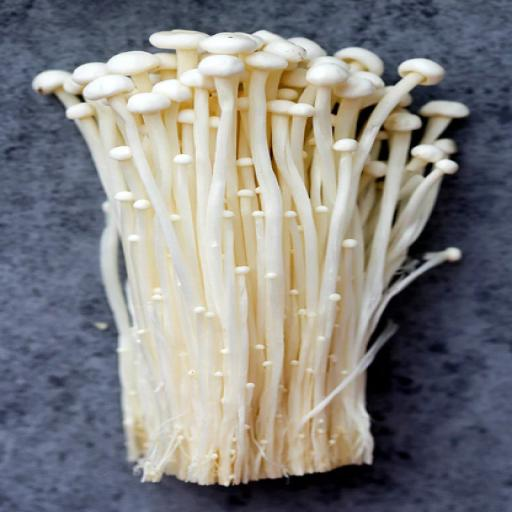Enoki Mushroom: (23, 28, 477, 486)
